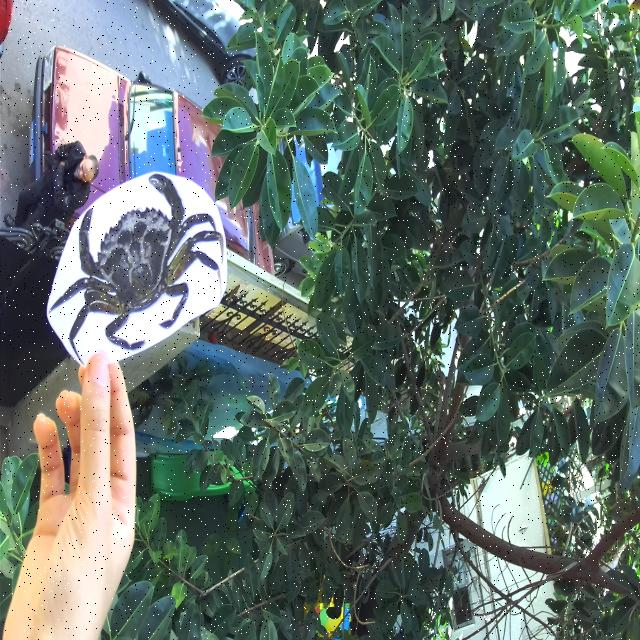European_Green_Crab: (34, 142, 234, 394)
